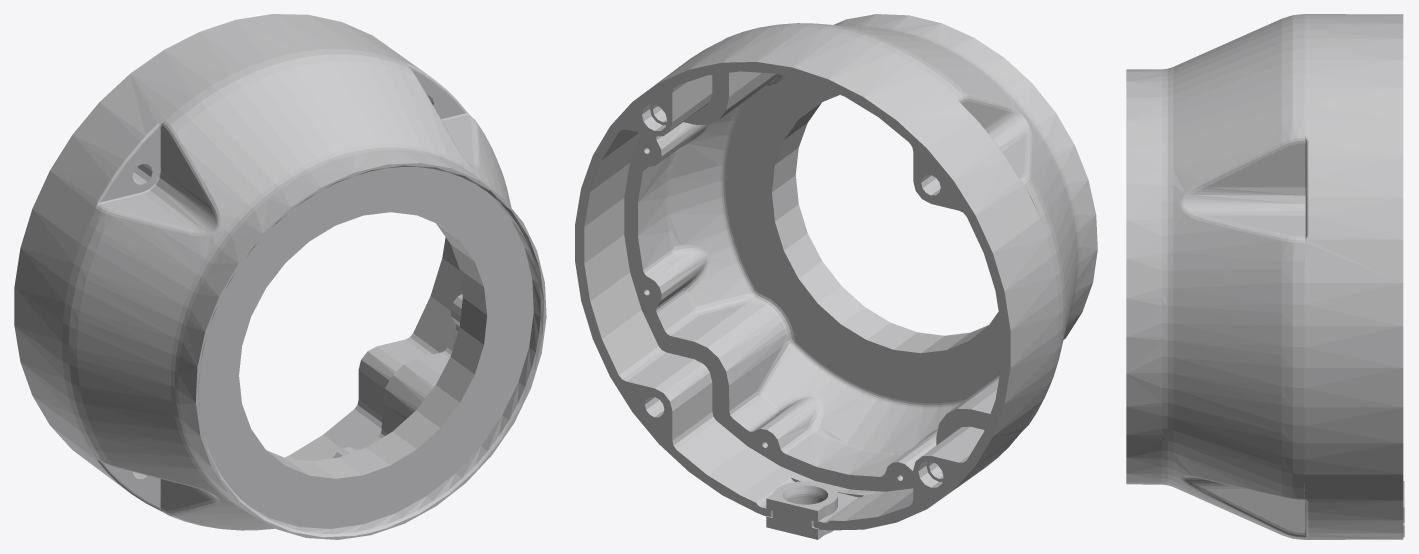
The model's file is ARM1.obj.
3 renders of one model, left to right at view 1: azimuth 30°, elevation 25°; view 2: azimuth 150°, elevation 25°; view 3: azimuth 270°, elevation 25°, orthographic. The views are drawn at different scales.
Visible parts, largest first — view 1: GBT-C12A-100.00-1; view 2: GBT-C12A-100.00-1; view 3: GBT-C12A-100.00-1.
Part boxes in pixels (x1,y1,x2,y2): GBT-C12A-100.00-1: (14, 14, 546, 539); GBT-C12A-100.00-1: (575, 14, 1097, 539); GBT-C12A-100.00-1: (1126, 14, 1404, 539).
Size of the model in its own units: 190 by 194 by 101.
1 material, 1 textured.
